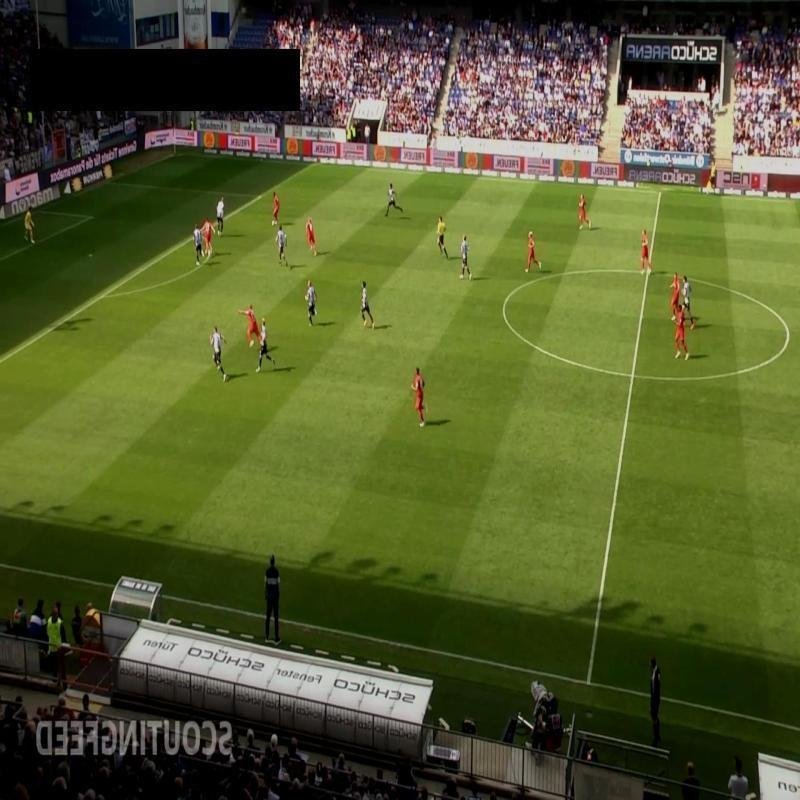1: (168, 146, 182, 160)
10: (188, 231, 202, 244)
11: (92, 288, 106, 302)
13: (652, 184, 666, 198)
14: (640, 264, 656, 278)
15: (624, 367, 641, 384)
16: (577, 672, 603, 696)
2: (98, 176, 112, 190)
3: (30, 204, 44, 218)
7: (86, 210, 101, 224)
9: (252, 188, 272, 204)
c: (781, 325, 800, 348), (496, 294, 512, 314)
